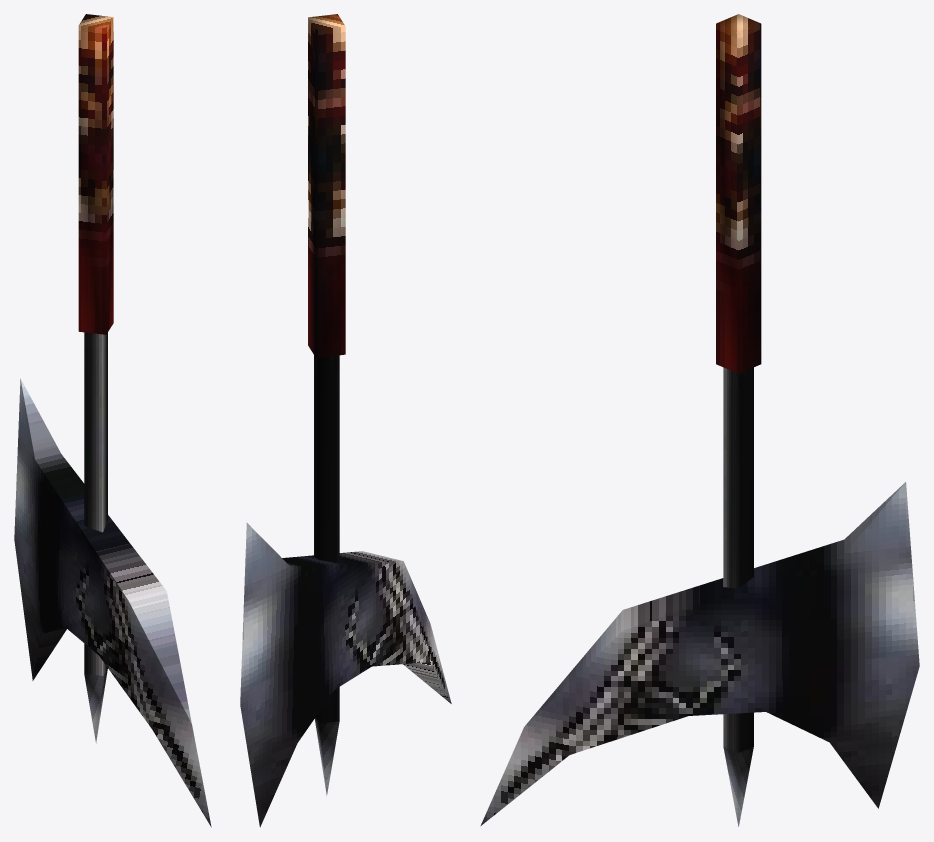
Rendered from Axe06.glb.
3 views of the same model, side by side, from view 1: azimuth 30°, elevation 25°; view 2: azimuth 150°, elevation 25°; view 3: azimuth 270°, elevation 25° (orthographic). The views are drawn at different scales.
Parts seen in each view (by area): view 1: model_Axe06; view 2: model_Axe06; view 3: model_Axe06.
Boxes of the visible parts, x1,y1,x2,y2 form: model_Axe06: [14, 14, 211, 827]; model_Axe06: [240, 14, 451, 827]; model_Axe06: [480, 14, 919, 826].
Size of the model in its own units: 0.0651 by 1.17 by 0.5804.
1 material, 1 textured.
